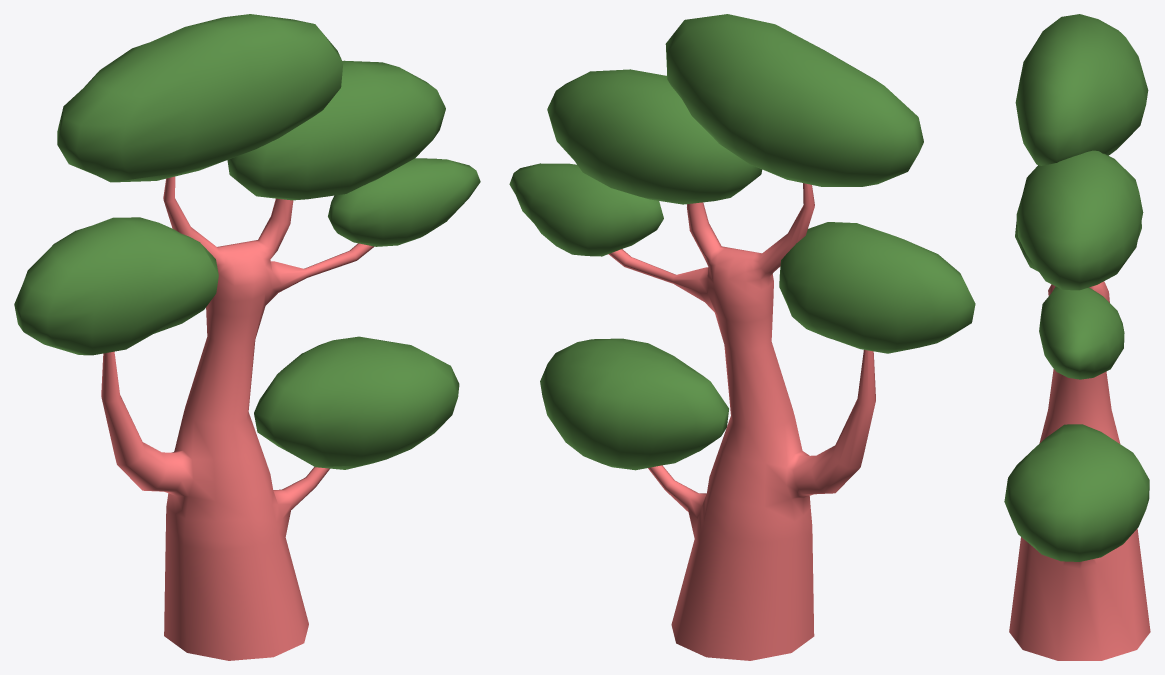
Rendered from COM_VEGETACION_ARBOLES00.fbx.
The picture shows the model from 3 angles, left to right: view 1: azimuth 30°, elevation 25°; view 2: azimuth 150°, elevation 25°; view 3: azimuth 270°, elevation 25°; orthographic projection. The views are drawn at different scales.
Visible parts, largest first — view 1: MOR_TEP_VEGETACION_ARBOL_01_LOD0; view 2: MOR_TEP_VEGETACION_ARBOL_01_LOD0; view 3: MOR_TEP_VEGETACION_ARBOL_01_LOD0.
Part boxes in pixels (x1,y1,x2,y2): MOR_TEP_VEGETACION_ARBOL_01_LOD0: (14,14,480,660); MOR_TEP_VEGETACION_ARBOL_01_LOD0: (509,14,975,660); MOR_TEP_VEGETACION_ARBOL_01_LOD0: (1004,14,1150,660).
Size of what is drawn, in the model's own units: 315 by 399 by 90.38.
